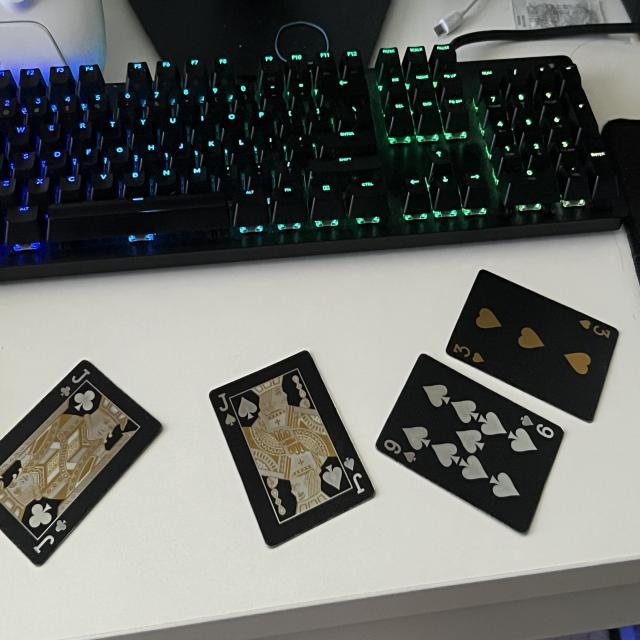3H: (452, 328, 488, 369), (578, 311, 618, 341)
9S: (521, 402, 557, 447), (383, 435, 423, 469)
JC: (30, 518, 70, 558), (51, 363, 93, 401)
JS: (341, 446, 368, 501), (210, 390, 239, 433)
